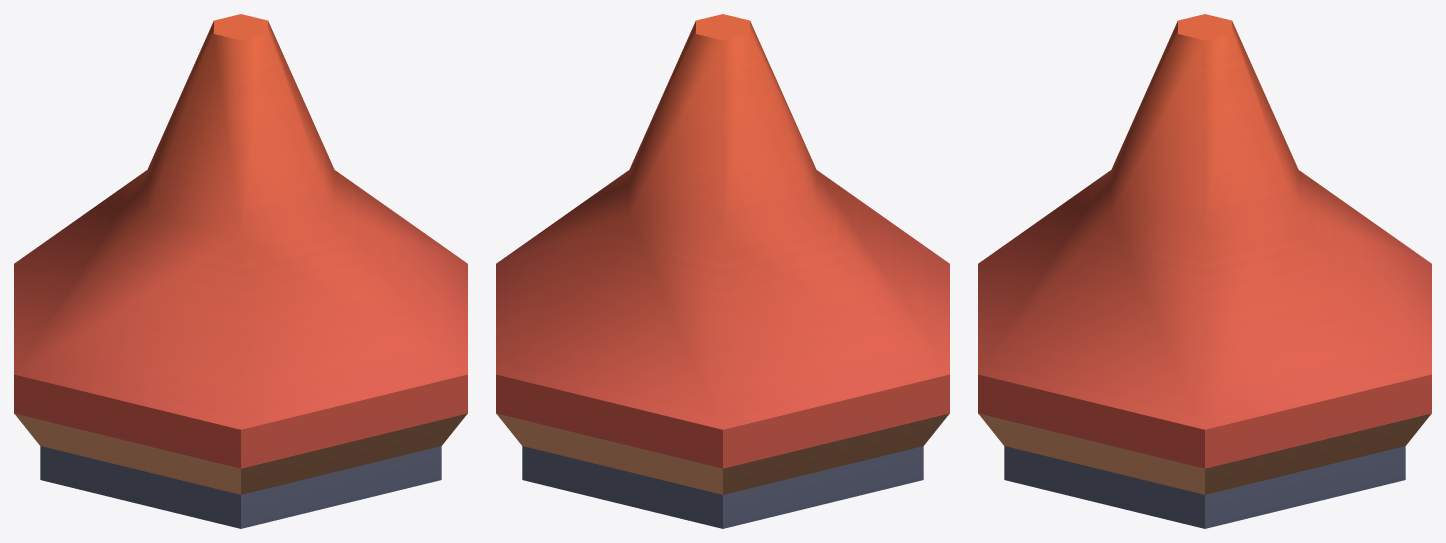
File: tower-hexagon-roof.fbx
3 renders of one model, left to right at view 1: azimuth 30°, elevation 25°; view 2: azimuth 150°, elevation 25°; view 3: azimuth 270°, elevation 25°, orthographic.
Parts seen in each view (by area): view 1: tower-hexagon-roof; view 2: tower-hexagon-roof; view 3: tower-hexagon-roof.
Part boxes in pixels (<box>): tower-hexagon-roof: <box>14,14,467,528</box>; tower-hexagon-roof: <box>496,14,949,528</box>; tower-hexagon-roof: <box>978,14,1431,528</box>.
Size of the model in its own units: 0.9763 by 0.8455 by 0.83.
